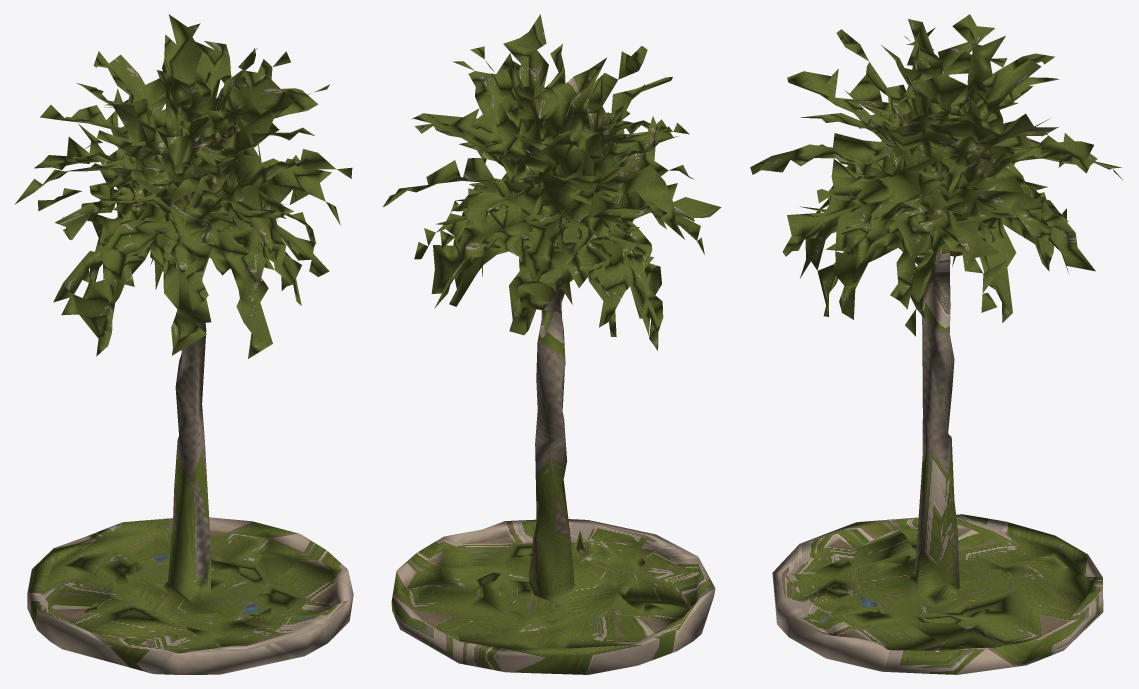
Rendered from palmbase_lod1.glb.
The picture shows the model from 3 angles, left to right: view 1: azimuth 30°, elevation 25°; view 2: azimuth 150°, elevation 25°; view 3: azimuth 270°, elevation 25°; orthographic projection. The views are drawn at different scales.
Size of the model in its own units: 1.01 by 1.87 by 1.09.
Materials: 1 (1 with a texture image).
